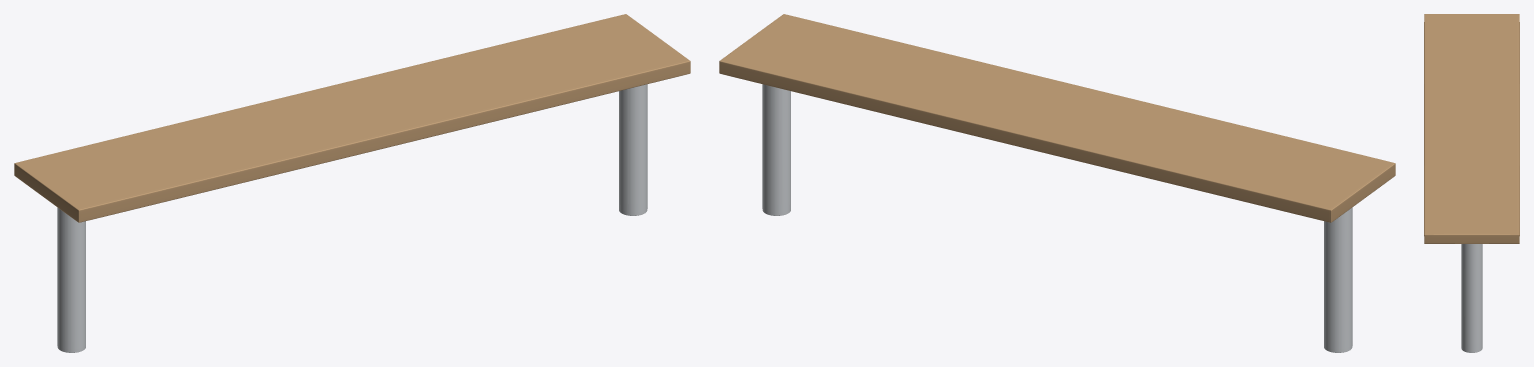
Rendered from Mega_SkyBridge_Hi_205748.fbx.
The picture shows the model from 3 angles, left to right: view 1: azimuth 30°, elevation 25°; view 2: azimuth 150°, elevation 25°; view 3: azimuth 270°, elevation 25°; orthographic projection. The views are drawn at different scales.
Parts seen in each view (by area): view 1: Cube, Cylinder, Cylinder.001; view 2: Cube, Cylinder, Cylinder.001; view 3: Cube, Cylinder.001.
Boxes of the visible parts, x1,y1,x2,y2 form: Cube: (14, 14, 690, 222); Cylinder: (57, 207, 85, 352); Cylinder.001: (619, 84, 647, 215); Cube: (719, 14, 1395, 222); Cylinder: (1324, 207, 1352, 352); Cylinder.001: (762, 84, 790, 215); Cube: (1424, 14, 1519, 243); Cylinder.001: (1461, 244, 1482, 352).
Size of the model in its own units: 12 by 3.12 by 2.2.
